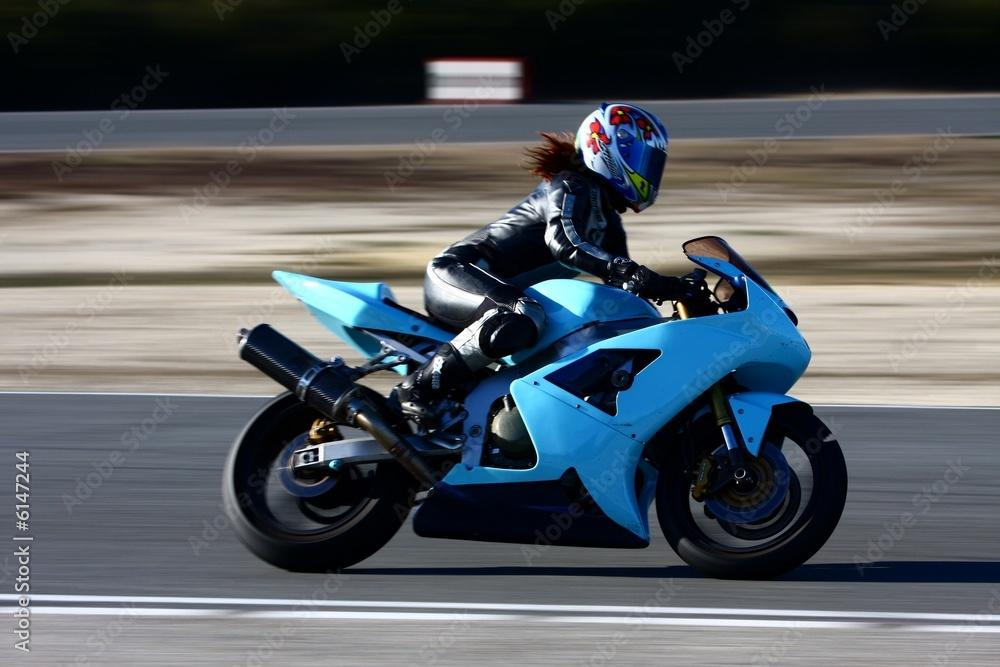helmet: (573, 101, 669, 214)
